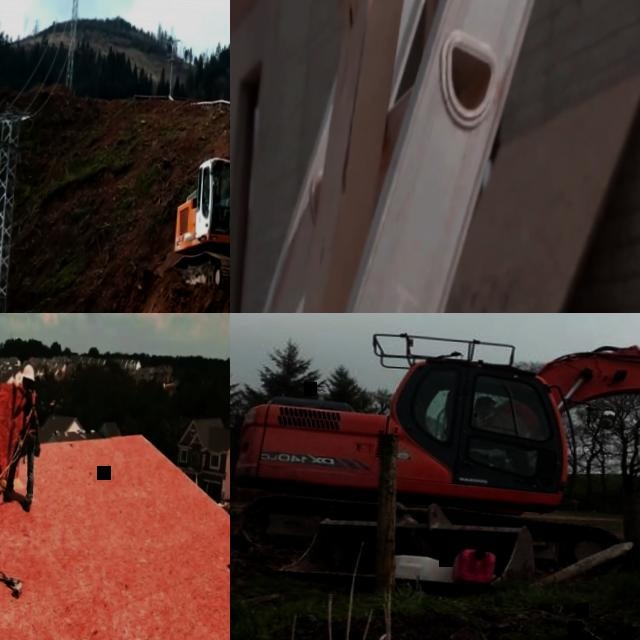Hardhat: (22, 363, 36, 383)
NO-Hardhat: (477, 394, 497, 404)
NO-Mask: (22, 381, 27, 389)
NO-Safety Vest: (24, 388, 39, 430)
Person: (2, 363, 42, 512), (468, 393, 539, 476), (204, 185, 218, 223)
machinery: (231, 313, 640, 608), (171, 8, 230, 302)
